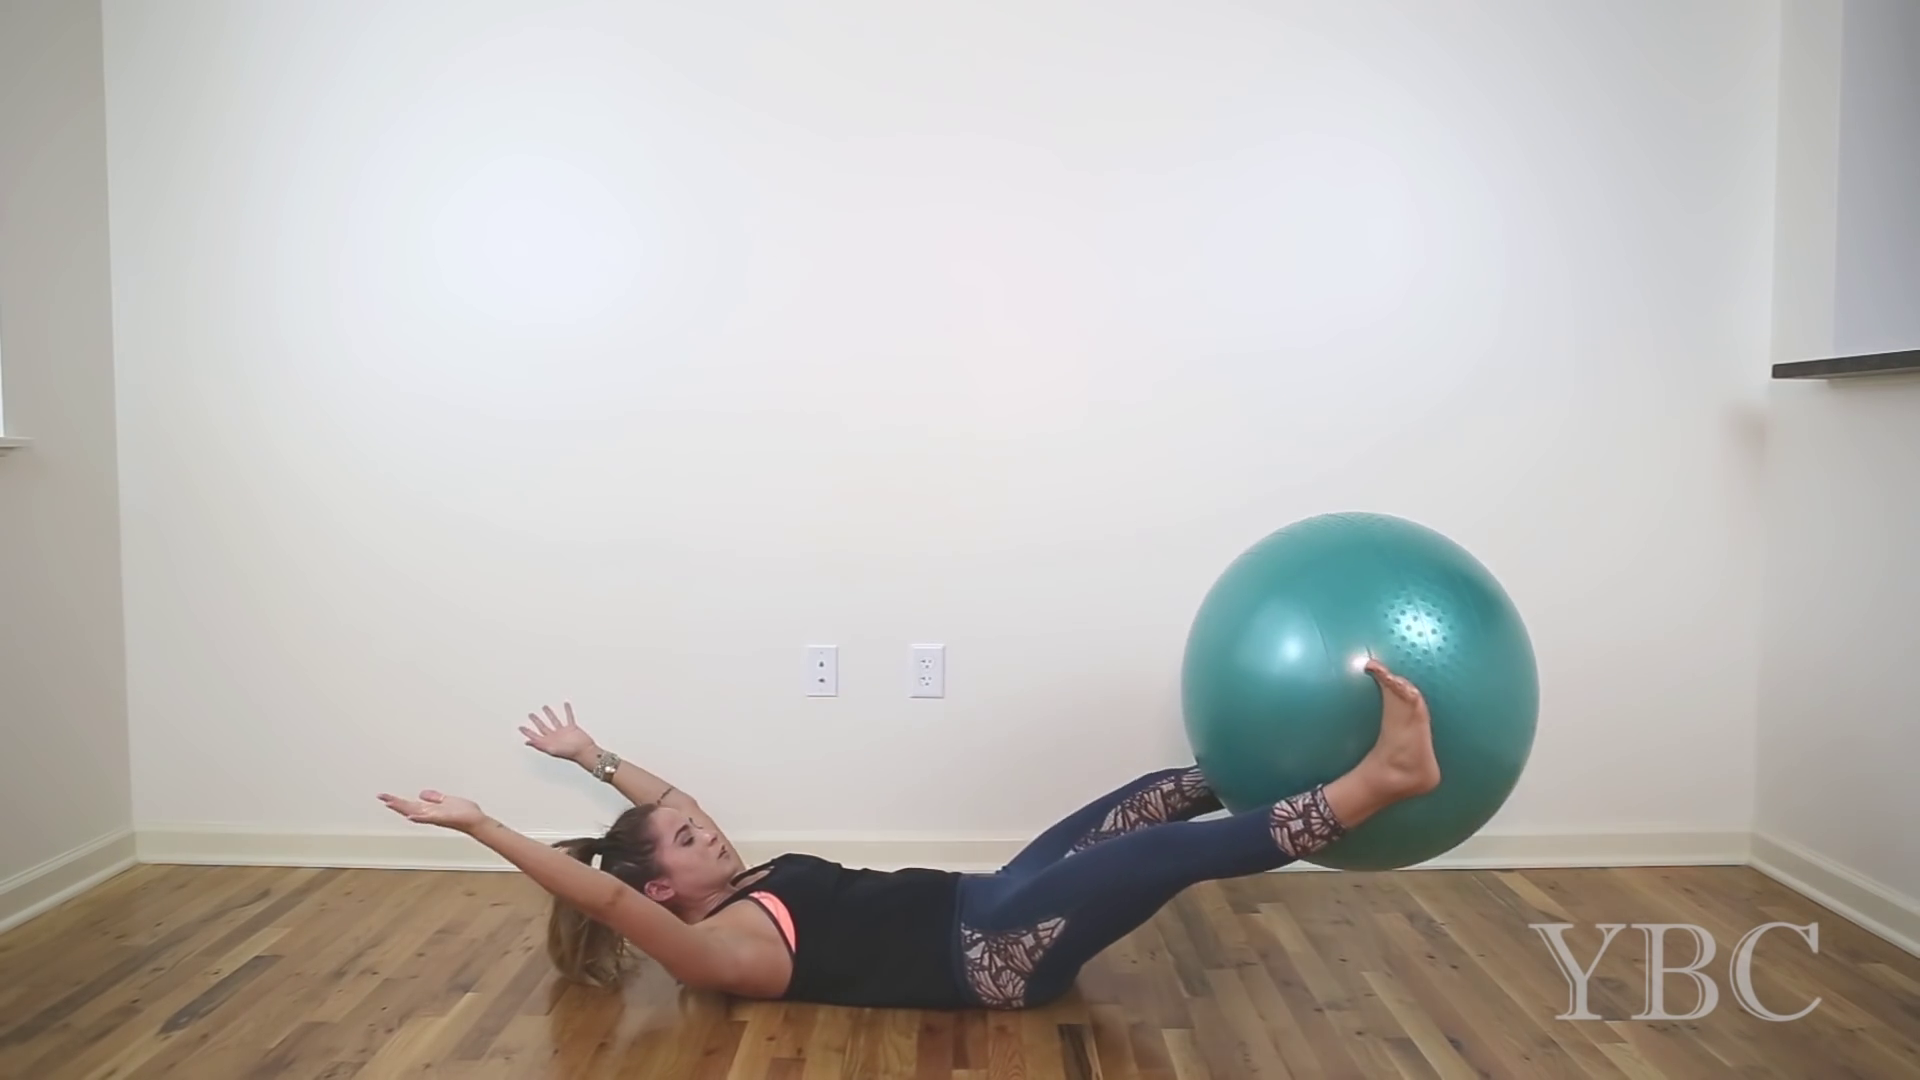yogaball: (1174, 492, 1543, 881)
